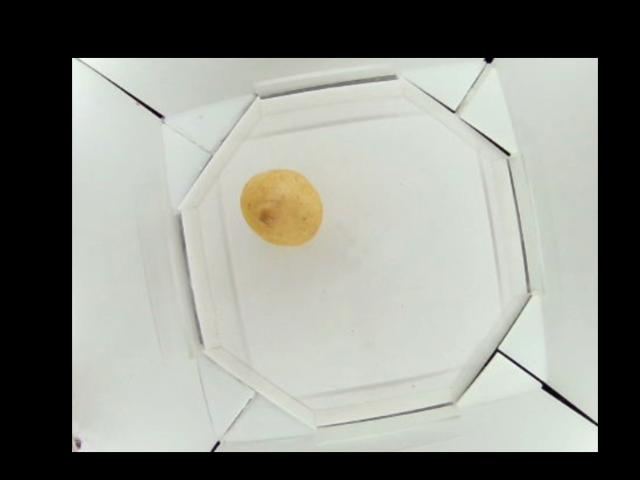Potato: (237, 169, 320, 242)
